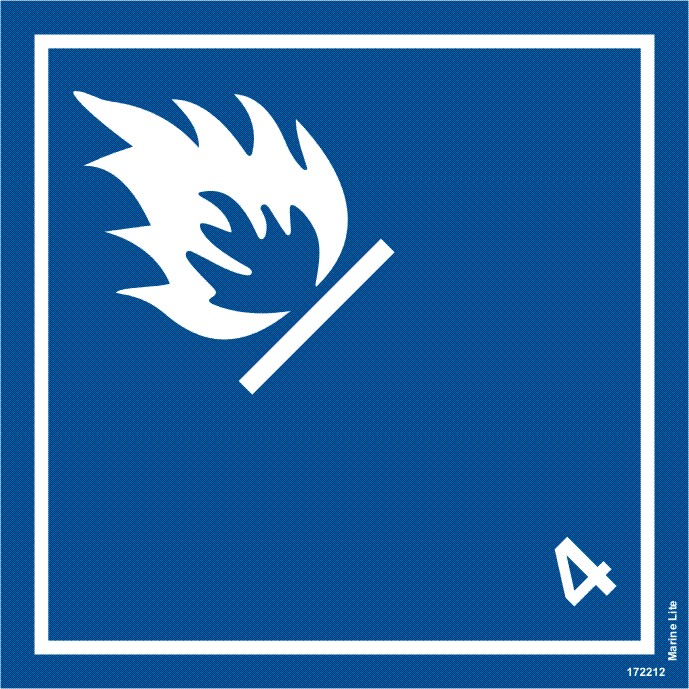Dangerous when wet: (1, 1, 689, 689)
